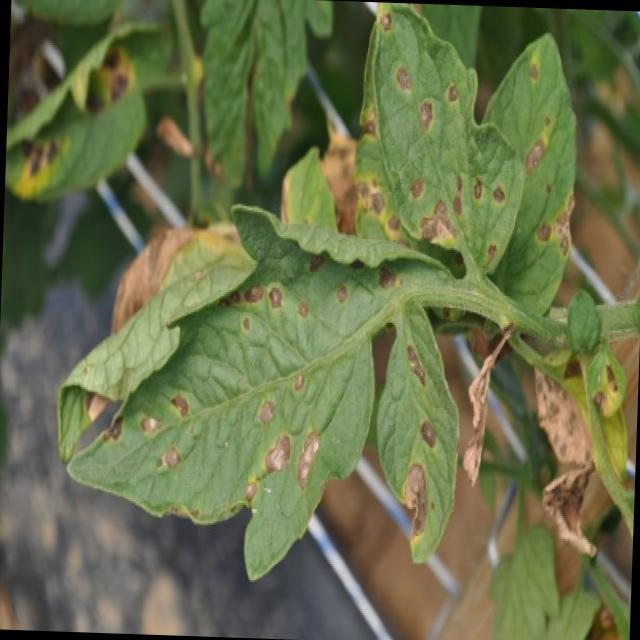Septoria: (358, 9, 510, 260), (222, 248, 400, 346), (240, 351, 344, 508), (515, 52, 579, 265), (100, 367, 199, 481), (402, 330, 442, 454)
